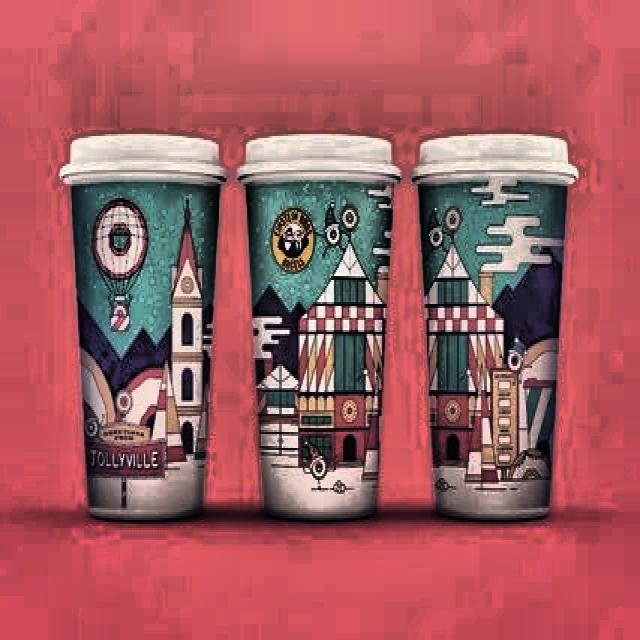Cup: (228, 134, 416, 537), (56, 136, 232, 535)
